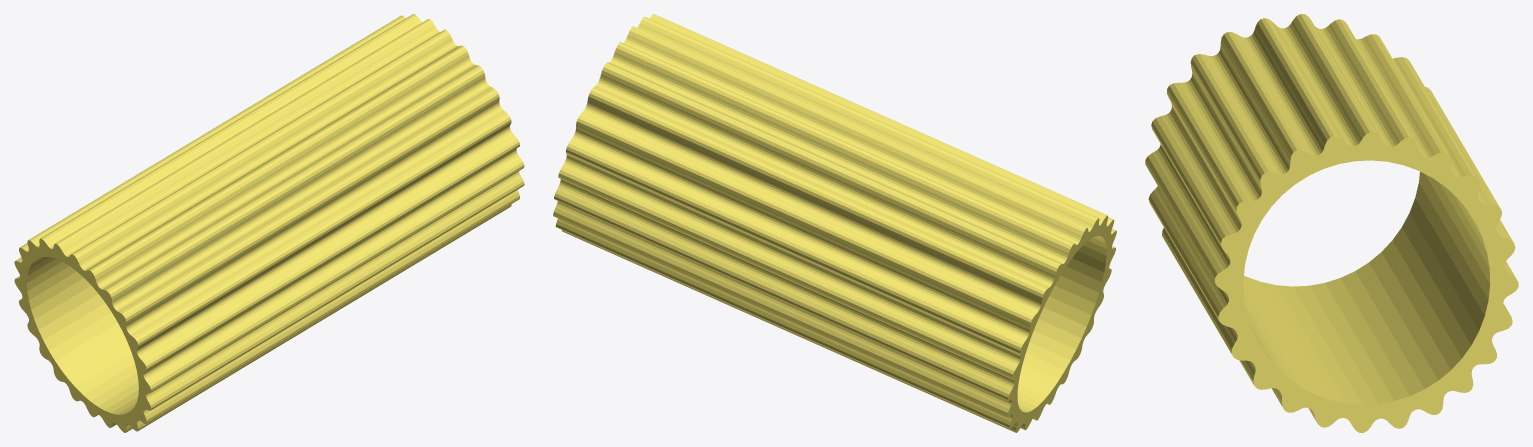
Rendered from Rigatoni.005.gltf.
3 renders of one model, left to right at view 1: azimuth 30°, elevation 25°; view 2: azimuth 150°, elevation 25°; view 3: azimuth 270°, elevation 25°, orthographic. The views are drawn at different scales.
Parts seen in each view (by area): view 1: Rigatoni.005; view 2: Rigatoni.005; view 3: Rigatoni.005.
Boxes of the visible parts, x1=… form: Rigatoni.005: x1=14, y1=14, x2=524, y2=432; Rigatoni.005: x1=553, y1=14, x2=1116, y2=432; Rigatoni.005: x1=1145, y1=14, x2=1518, y2=432.
Bounding box in the file's own units: 6.31 × 4.05 × 3.27.
